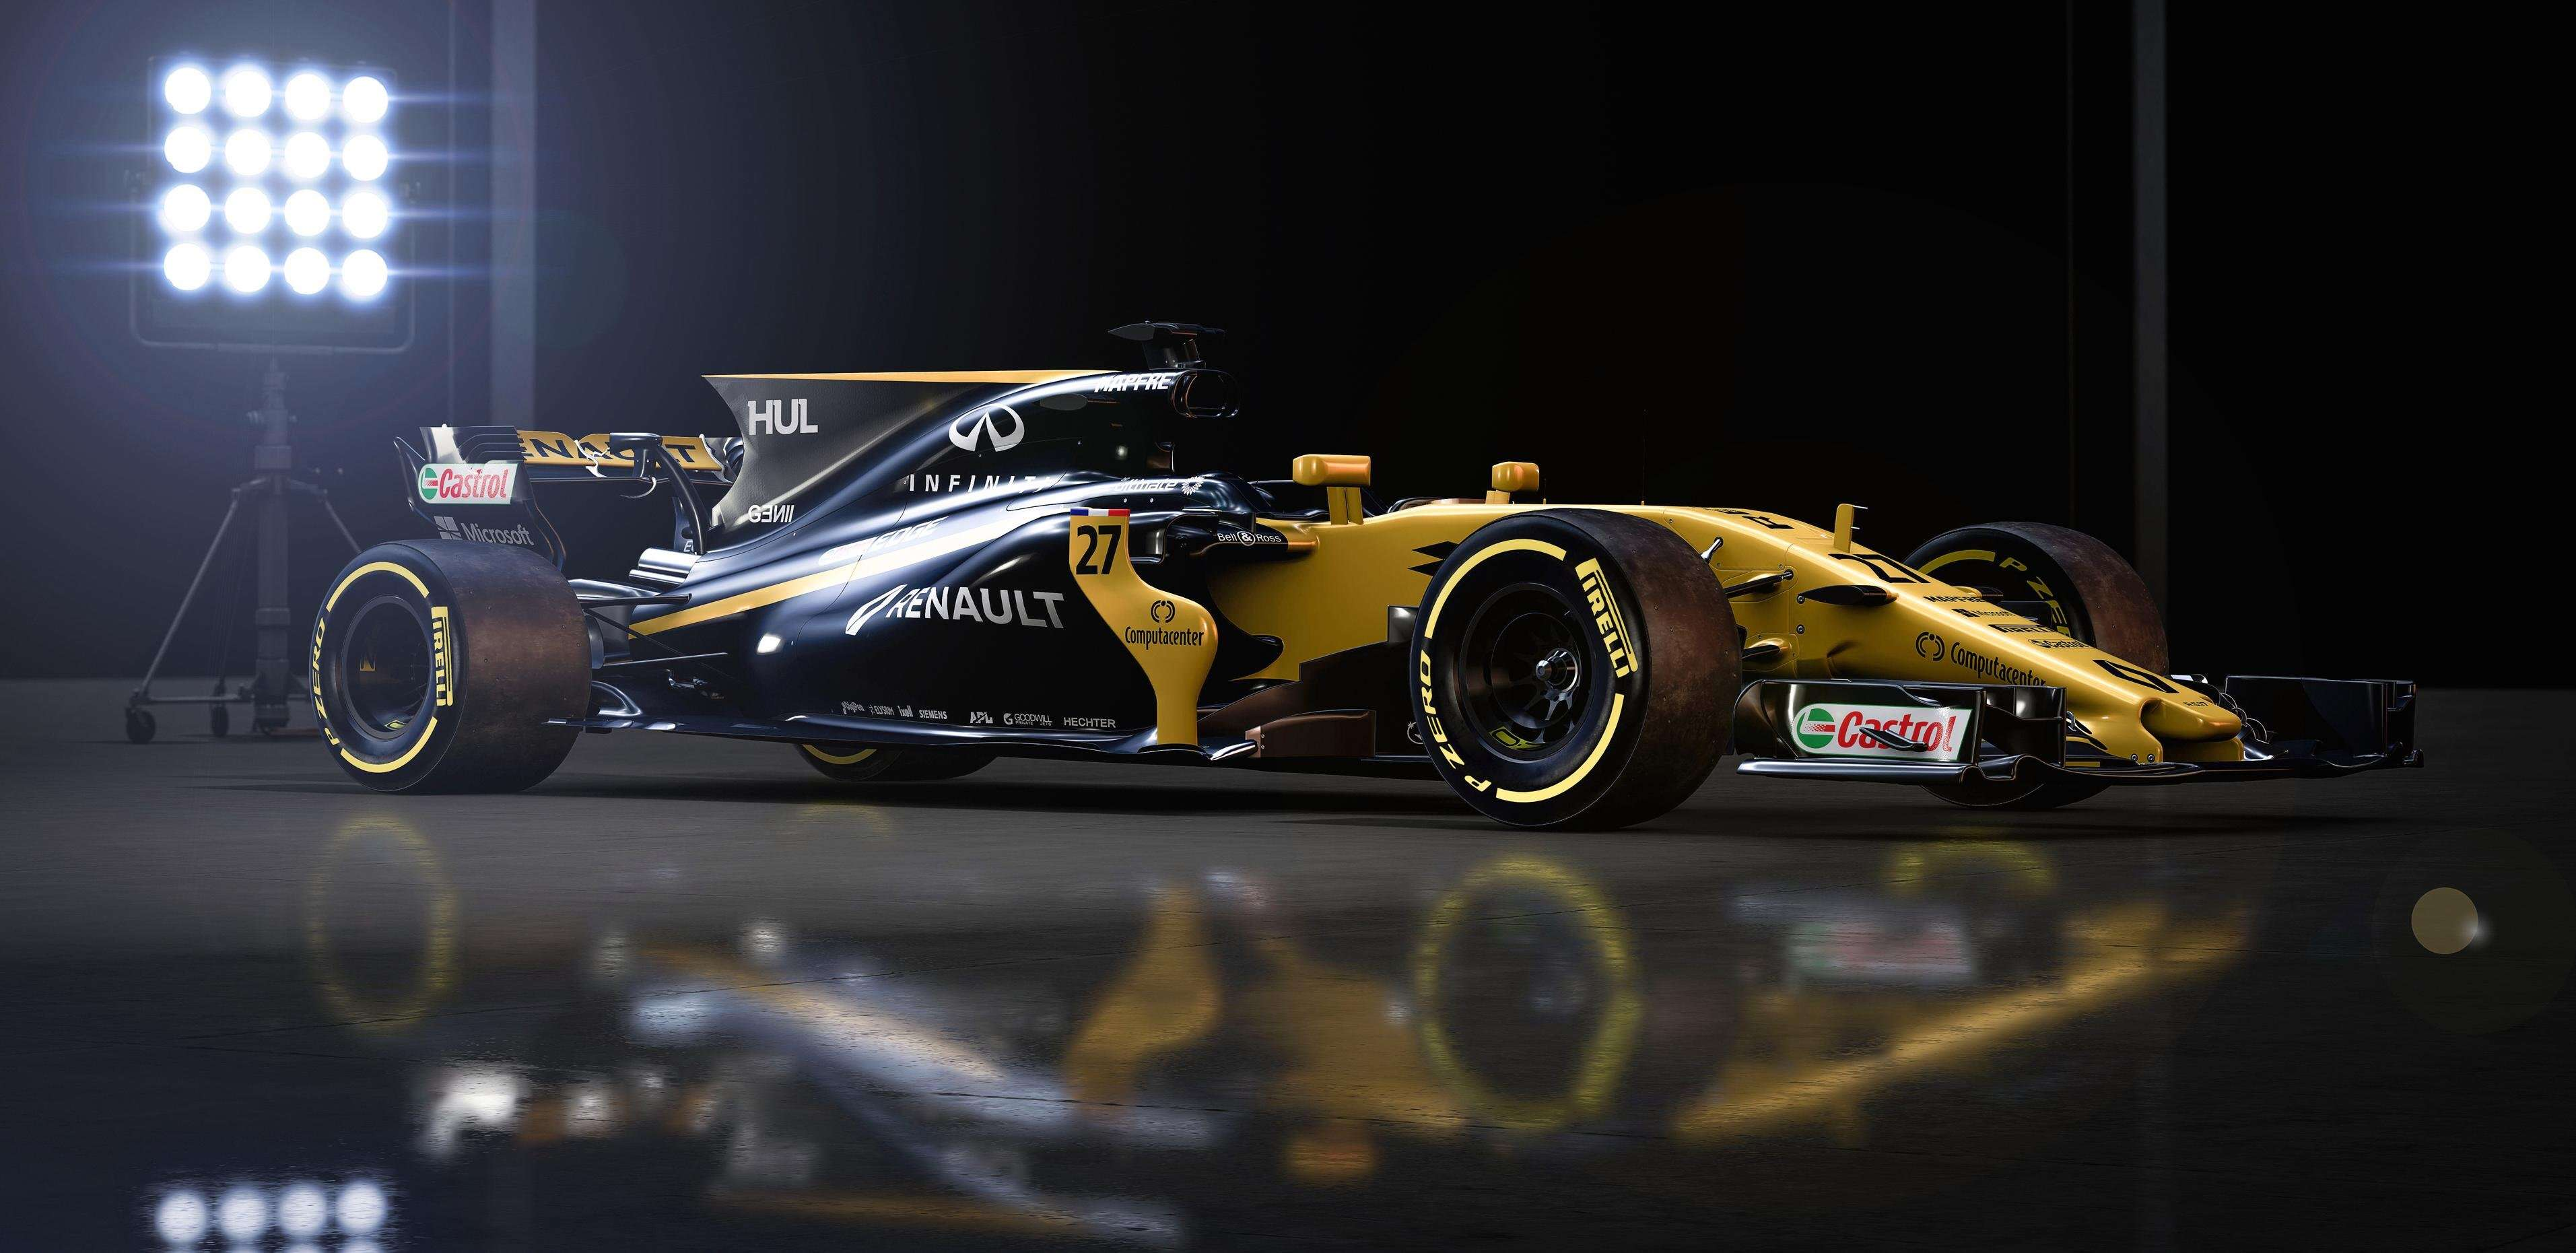f1_car: (292, 310, 2445, 849)
